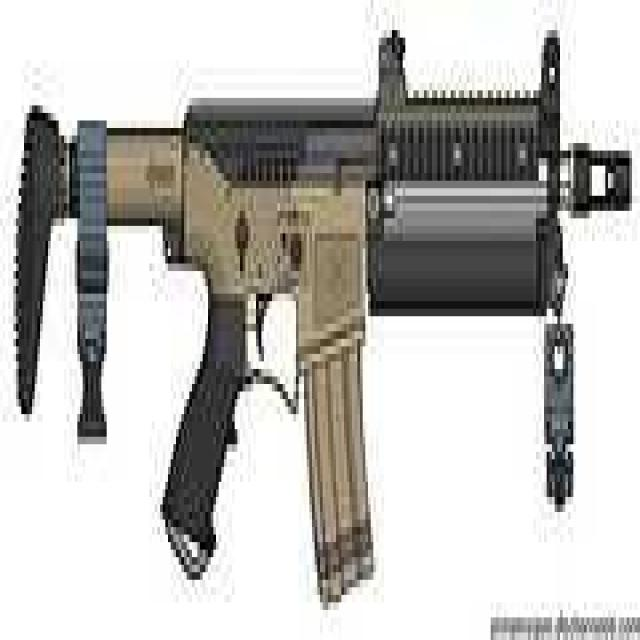Rifle: (8, 39, 632, 526)
